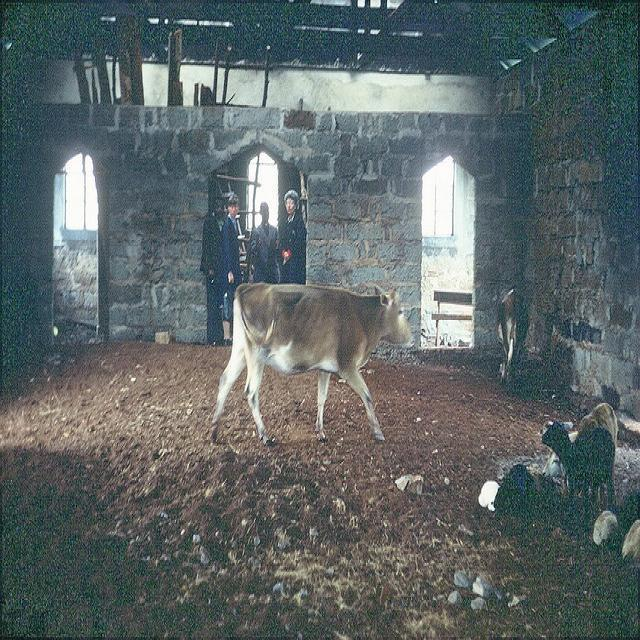cow: (211, 283, 416, 443), (490, 283, 529, 385)
